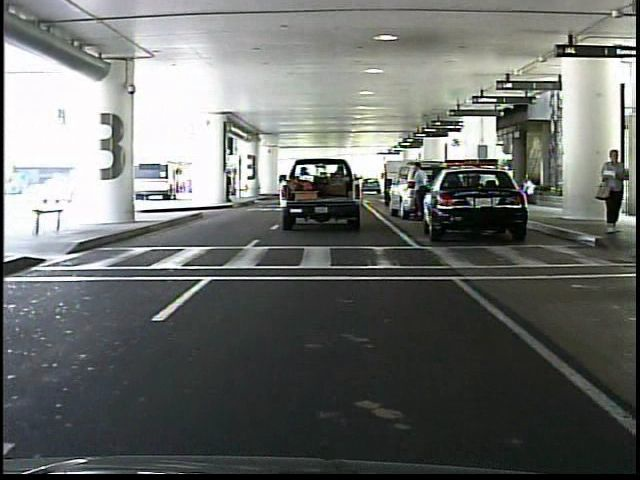person: (595, 146, 629, 238), (412, 159, 430, 213)
